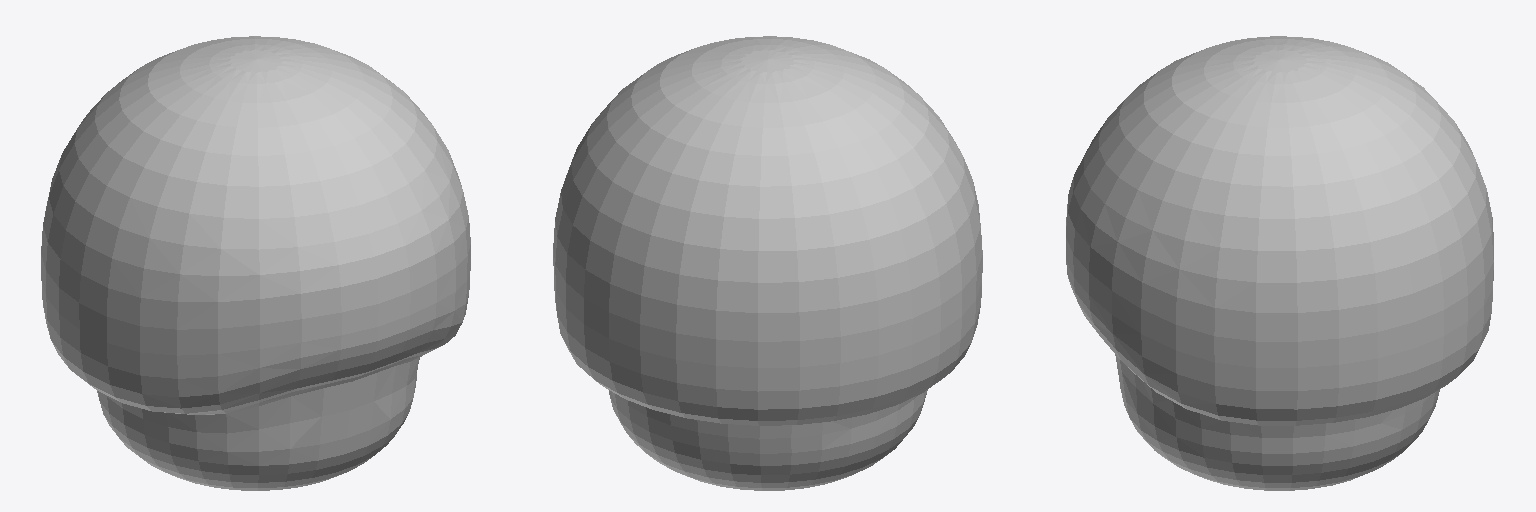
File: mushroom.obj
3 views of the same model, side by side, from view 1: azimuth 30°, elevation 25°; view 2: azimuth 150°, elevation 25°; view 3: azimuth 270°, elevation 25° (orthographic).
Visible parts, largest first — view 1: Line01; view 2: Line01; view 3: Line01.
Boxes of the visible parts, x1,y1,x2,y2 form: Line01: [41, 36, 470, 490]; Line01: [553, 36, 982, 490]; Line01: [1066, 36, 1493, 490].
Size of the model in its own units: 36.85 by 37.28 by 36.85.